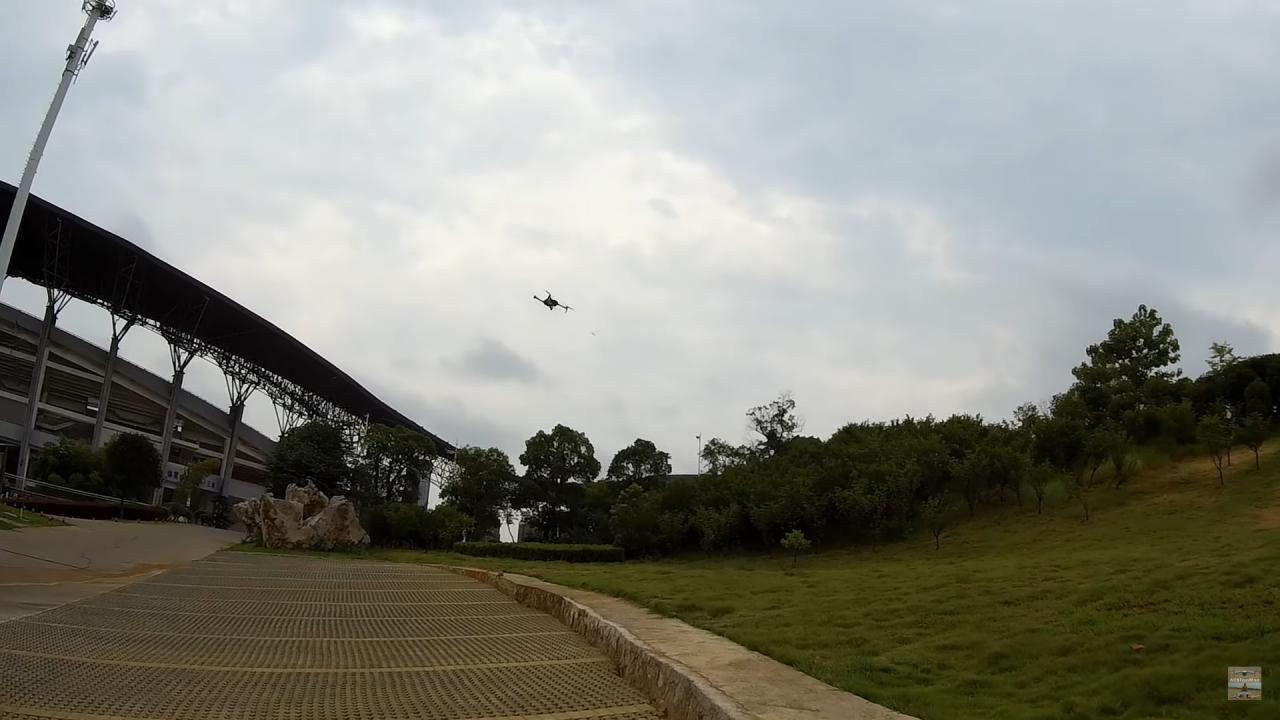Drone: (526, 284, 582, 320)
